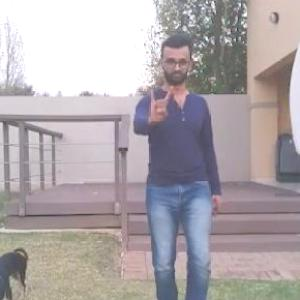takeoff-hand: (141, 78, 182, 126)
